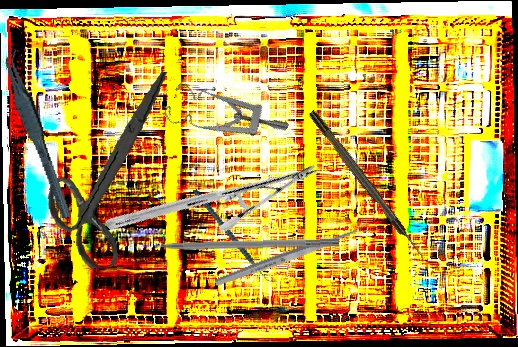Chopper: (192, 174, 278, 298)
Hook Surgical: (307, 108, 427, 261)
Iris Scissors: (34, 71, 190, 273)
Needle Holder: (103, 89, 320, 305)
Pusher: (128, 236, 340, 251)
Speculum: (158, 59, 290, 179)
Surgical Spoon: (213, 221, 372, 289)
Tissue Forceps: (1, 44, 73, 224)
